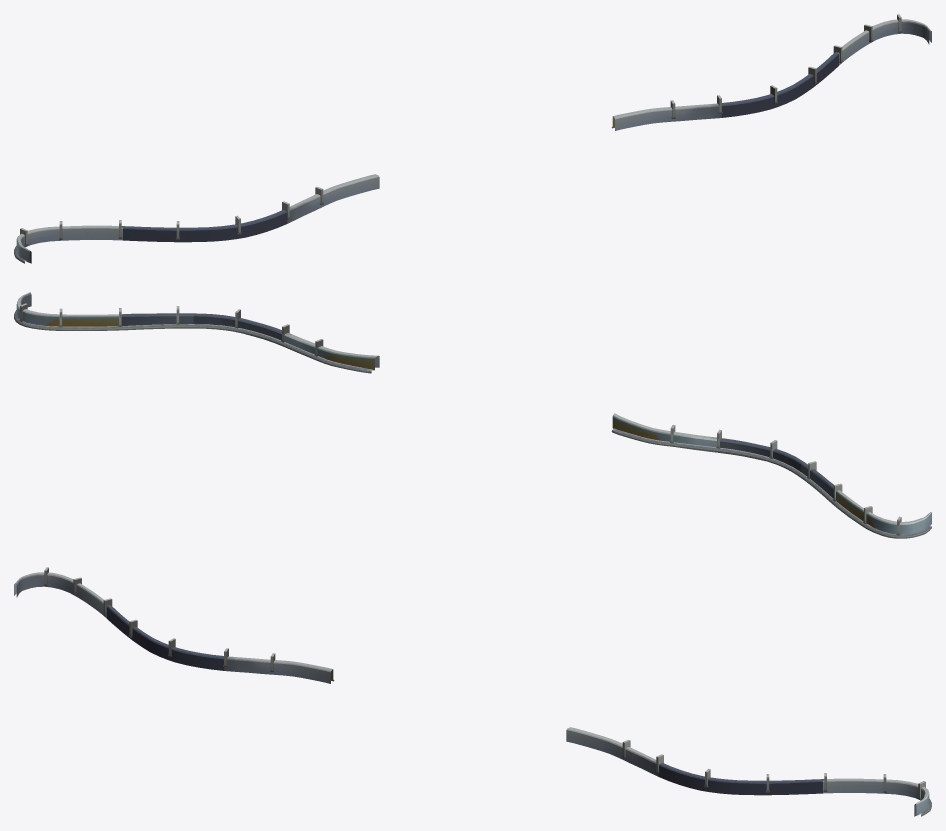
Rendered from pref_sm_beach_bk_pointmol_topbuild03c_lv2.fbx.
3 views of the same model, one above another, from view 1: azimuth 30°, elevation 25°; view 2: azimuth 150°, elevation 25°; view 3: azimuth 330°, elevation 25° (orthographic).
Parts seen in each view (by area): view 1: pref_sm_beach_bk_pointmol_topbuild03c_lv2; view 2: pref_sm_beach_bk_pointmol_topbuild03c_lv2; view 3: pref_sm_beach_bk_pointmol_topbuild03c_lv2.
Part boxes in pixels (x1=…): pref_sm_beach_bk_pointmol_topbuild03c_lv2: x1=14, y1=14, x2=931, y2=263; pref_sm_beach_bk_pointmol_topbuild03c_lv2: x1=14, y1=292, x2=931, y2=538; pref_sm_beach_bk_pointmol_topbuild03c_lv2: x1=14, y1=567, x2=931, y2=816.
Bounding box in the file's own units: 125 × 2.76 × 12.16.
1 material, 1 textured.
